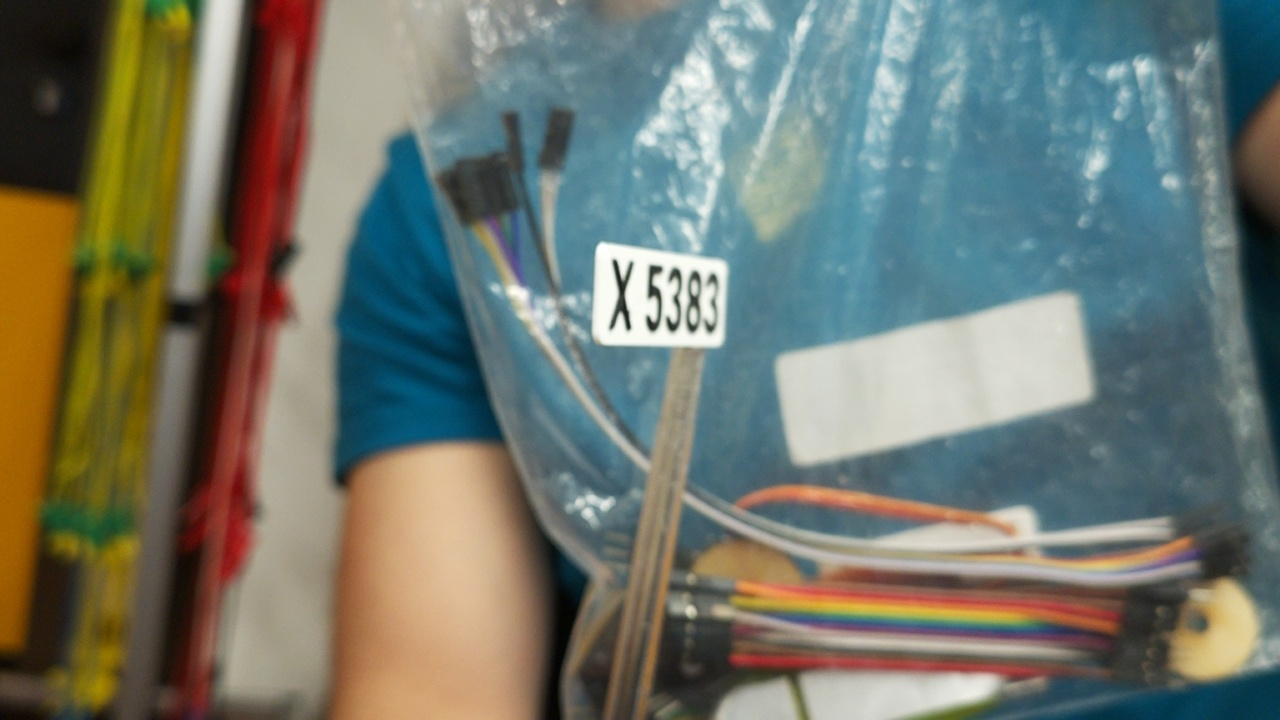license_plate: (588, 239, 730, 351)
